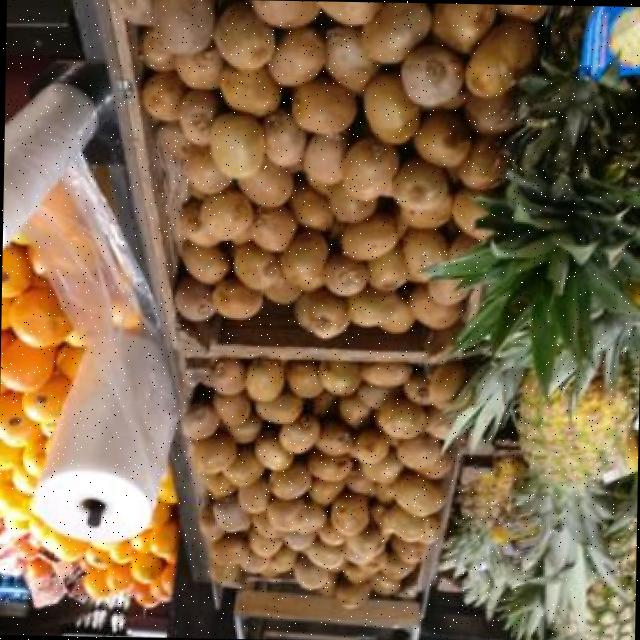kiwi: (464, 19, 536, 97), (360, 2, 430, 62), (212, 1, 273, 69), (399, 43, 463, 107), (363, 71, 419, 143), (290, 78, 355, 134), (342, 136, 398, 200), (209, 111, 263, 177), (324, 26, 378, 92), (267, 26, 325, 85), (152, 0, 214, 54), (412, 110, 469, 166), (431, 3, 494, 53), (218, 65, 279, 115), (391, 156, 447, 210), (198, 187, 252, 240), (339, 211, 398, 259), (455, 136, 507, 189), (236, 158, 291, 207), (262, 108, 306, 167), (401, 228, 448, 281), (391, 470, 445, 516), (280, 229, 327, 280), (232, 241, 280, 290), (407, 284, 460, 328), (177, 88, 218, 144), (464, 90, 516, 134), (183, 145, 230, 193), (302, 288, 347, 338), (140, 70, 185, 120), (374, 395, 426, 438), (210, 276, 262, 319), (303, 133, 346, 184), (249, 204, 295, 251), (173, 44, 222, 88), (181, 240, 229, 283), (347, 286, 398, 326), (288, 183, 332, 229), (451, 187, 489, 239), (327, 182, 376, 222), (190, 430, 235, 473), (322, 252, 367, 295), (179, 198, 219, 246), (366, 244, 407, 290), (398, 193, 451, 228), (173, 275, 214, 320), (250, 0, 318, 27), (427, 360, 465, 407), (342, 522, 385, 563), (329, 491, 368, 536), (221, 444, 262, 486), (386, 499, 427, 540), (277, 412, 319, 452), (244, 357, 283, 400), (268, 460, 311, 498), (253, 429, 293, 469), (254, 389, 301, 423), (395, 432, 439, 468), (210, 492, 249, 531), (316, 0, 379, 24), (359, 448, 402, 482), (349, 426, 388, 463), (181, 402, 220, 439), (286, 499, 327, 534), (140, 27, 173, 70), (306, 450, 353, 480), (318, 361, 360, 394), (377, 296, 414, 333), (314, 419, 352, 455), (285, 360, 321, 397), (209, 357, 244, 395), (156, 120, 191, 158), (359, 361, 412, 386), (208, 532, 248, 565), (212, 391, 250, 425), (292, 555, 328, 589), (303, 539, 343, 569), (265, 496, 303, 527), (426, 277, 467, 305), (262, 274, 301, 303), (337, 393, 370, 427), (237, 477, 268, 513), (334, 578, 370, 609), (226, 412, 261, 442), (414, 450, 451, 478), (389, 535, 425, 563), (196, 504, 223, 541), (247, 528, 281, 557), (307, 477, 343, 504), (381, 550, 414, 579), (403, 369, 430, 404), (343, 462, 373, 493), (198, 472, 235, 497), (250, 511, 284, 537), (356, 382, 391, 407), (424, 406, 451, 438), (447, 232, 478, 259), (496, 4, 547, 20), (369, 501, 393, 534), (268, 544, 296, 572), (415, 513, 442, 542), (291, 269, 321, 293), (316, 520, 344, 545), (369, 571, 399, 594), (239, 550, 268, 573), (357, 550, 386, 573), (207, 562, 239, 582), (282, 531, 315, 550), (311, 390, 334, 416), (342, 561, 370, 582), (305, 173, 330, 195), (315, 569, 336, 593), (294, 292, 307, 324), (372, 483, 393, 502), (326, 219, 345, 239), (230, 228, 250, 244), (187, 184, 205, 199), (260, 564, 276, 577), (288, 159, 303, 172)
pineapple: (432, 125, 640, 393), (514, 373, 632, 640), (517, 5, 640, 169), (434, 456, 524, 577), (443, 359, 523, 450), (585, 505, 637, 640), (460, 559, 523, 619), (498, 583, 545, 640)
